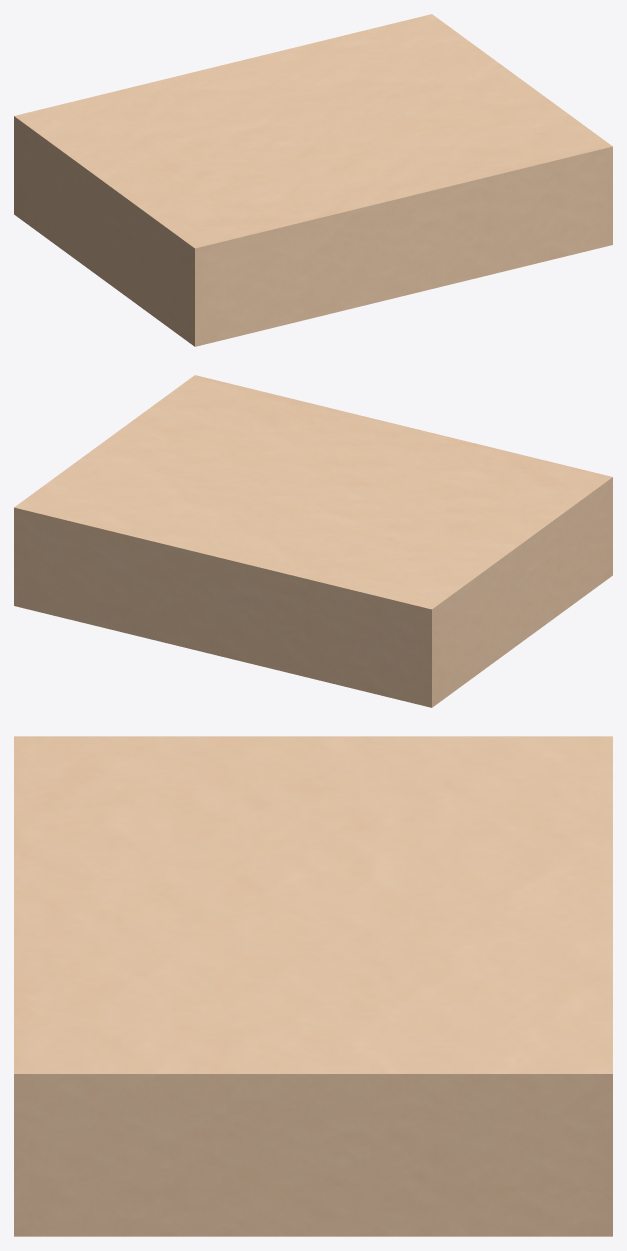
The model's file is Entrance_Platform.fbx.
3 renders of one model, top to bottom at view 1: azimuth 30°, elevation 25°; view 2: azimuth 150°, elevation 25°; view 3: azimuth 270°, elevation 25°, orthographic. The views are drawn at different scales.
Visible parts, largest first — view 1: Entrance_Platform; view 2: Entrance_Platform; view 3: Entrance_Platform.
Part boxes in pixels (x1=…): Entrance_Platform: x1=14, y1=14, x2=612, y2=346; Entrance_Platform: x1=14, y1=375, x2=612, y2=707; Entrance_Platform: x1=14, y1=736, x2=612, y2=1236.
Bounding box in the file's own units: 2 × 0.45 × 1.5.
1 material, 1 textured.
